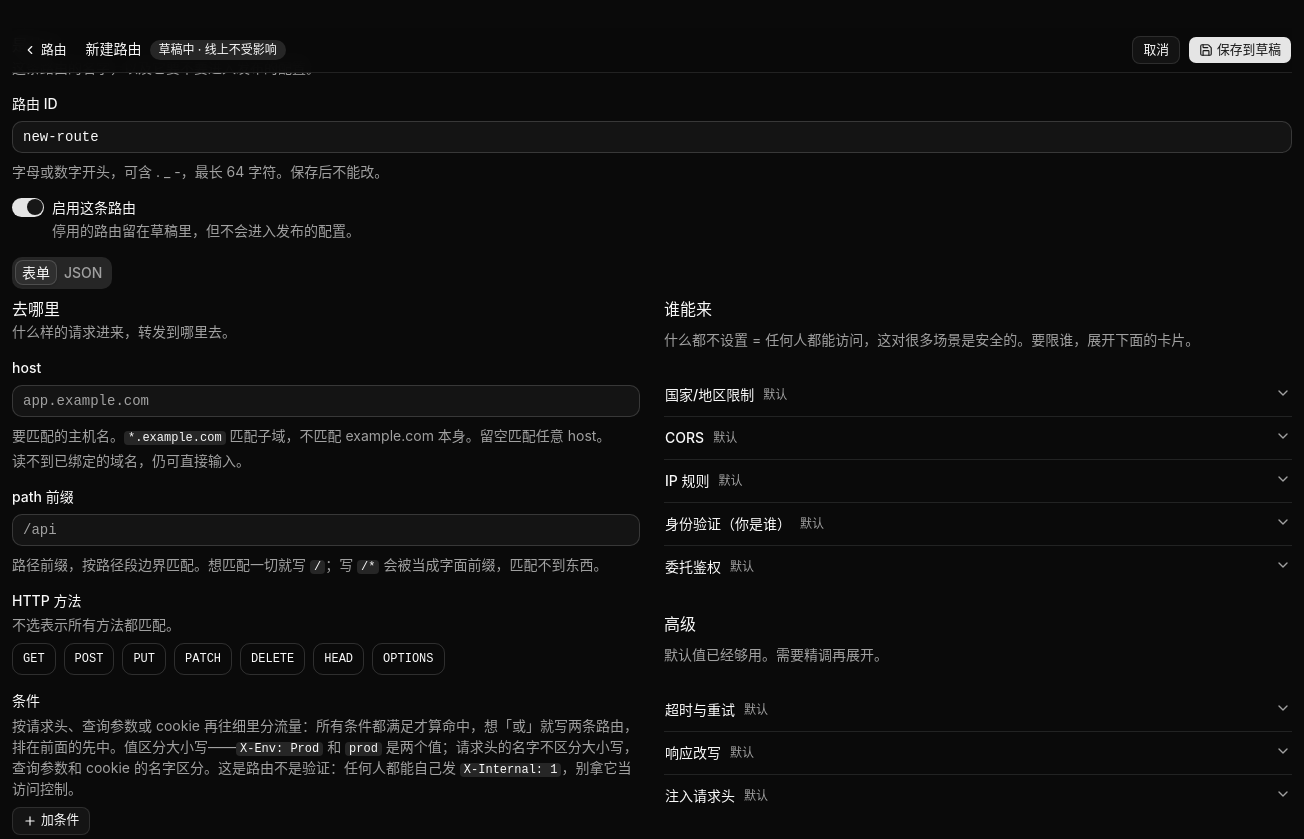
it: RouteEditor 正文改写（issue #29） › 打开改写：两个子开关出现，且都显示为 schema 默认的开
The image size is (1304, 839).
Step 1. Click the button "响应改写 默认" → (693, 752), box x1=664 y1=732 x2=1292 y2=774
(page scrolled)
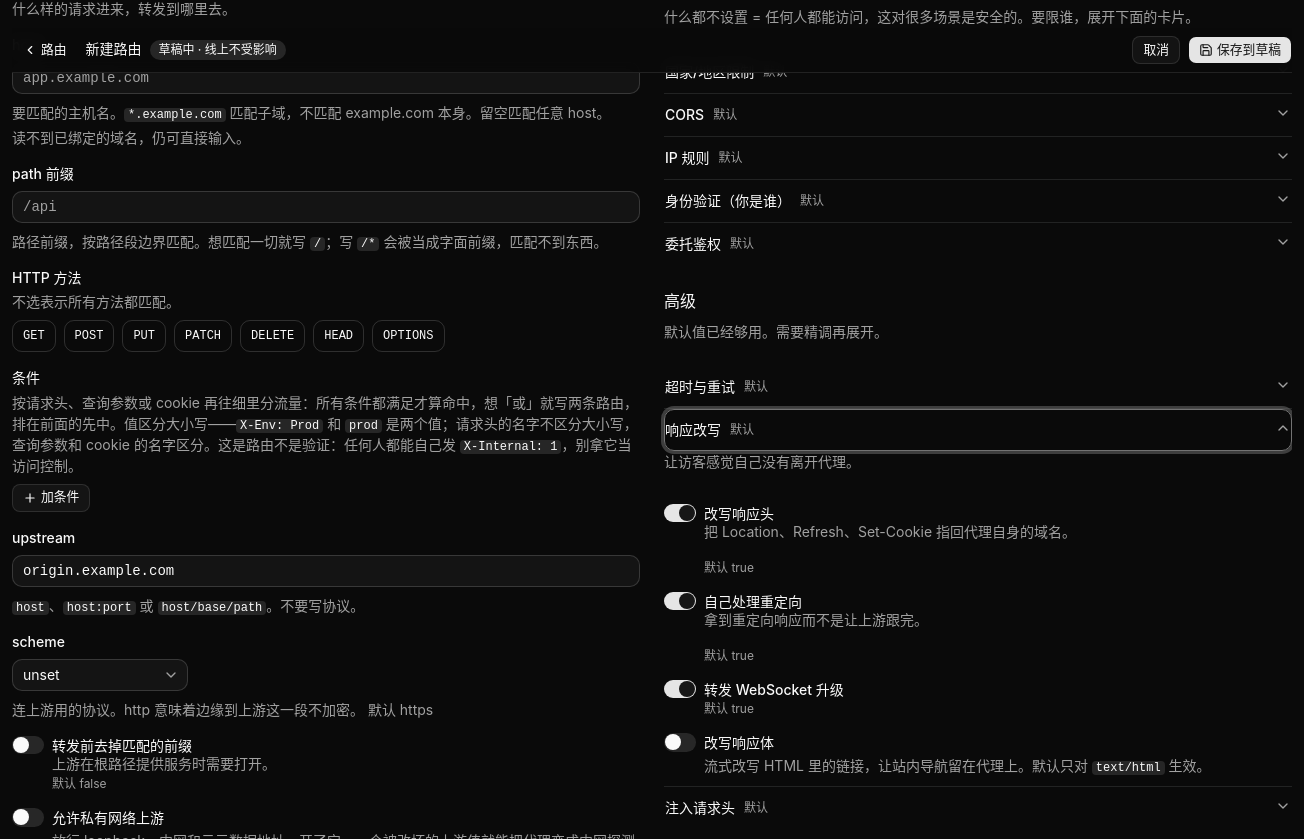
Expected: the switch labelled "改写链接" is not shown
Step 2. Click the switch named "改写响应体" next to "改写响应体" → (680, 742), box x1=664 y1=733 x2=696 y2=752
(page scrolled)
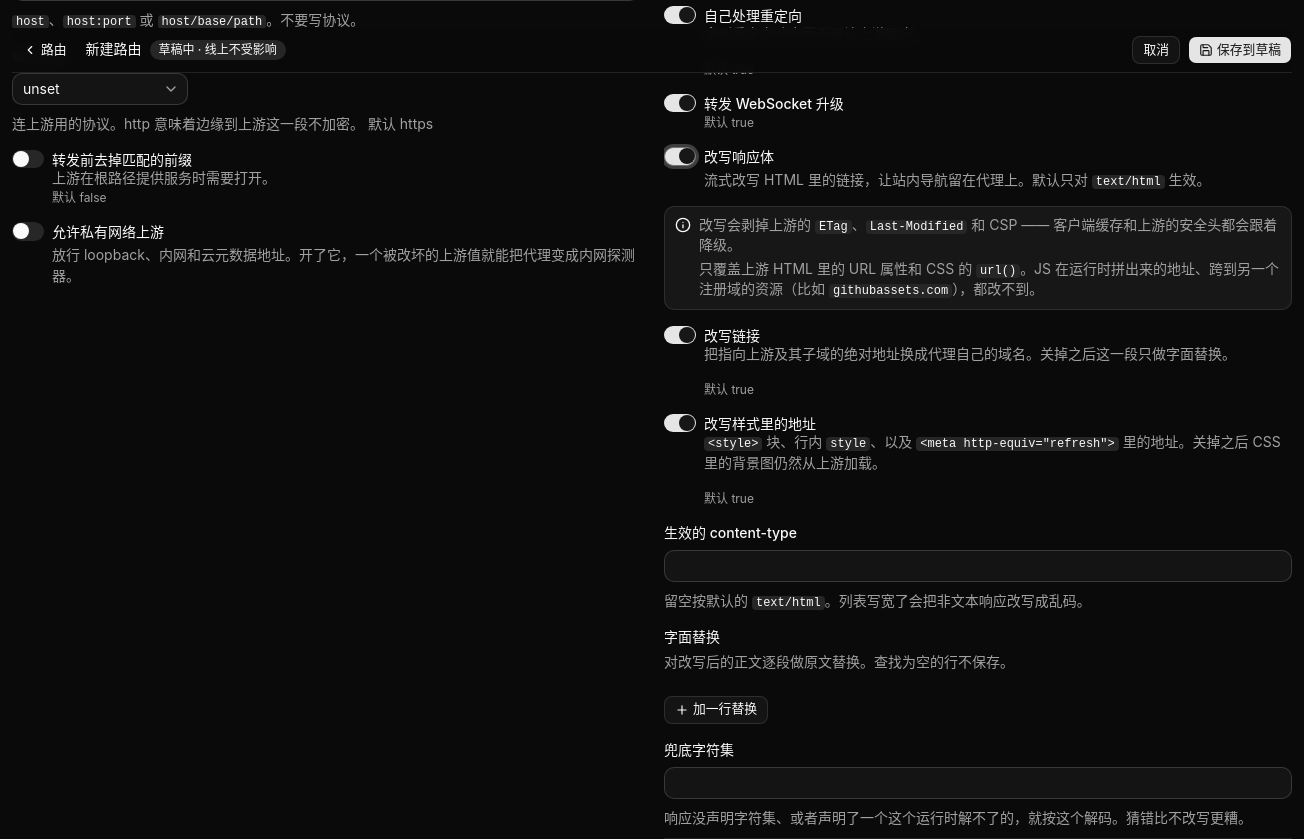
Now the switch named "改写链接" next to "改写链接" is checked, box x1=664 y1=326 x2=696 y2=344
Now the switch named "改写样式里的地址" next to "改写样式里的地址" is checked, box x1=664 y1=414 x2=696 y2=432
